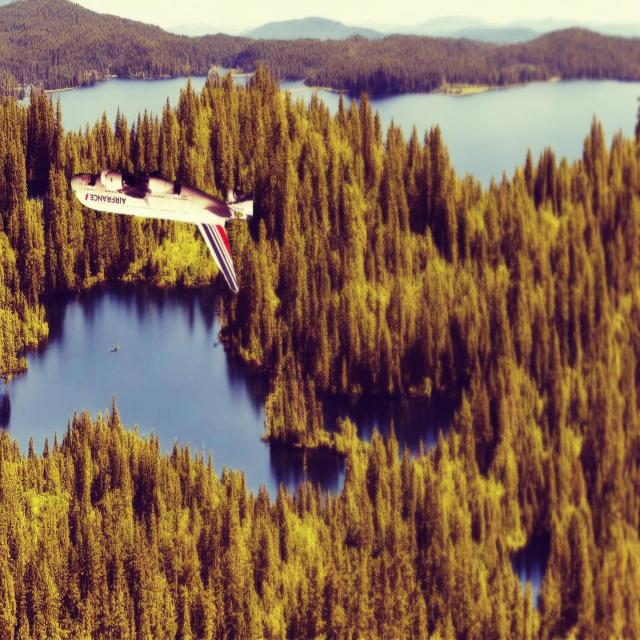airplane: (70, 167, 253, 293)
